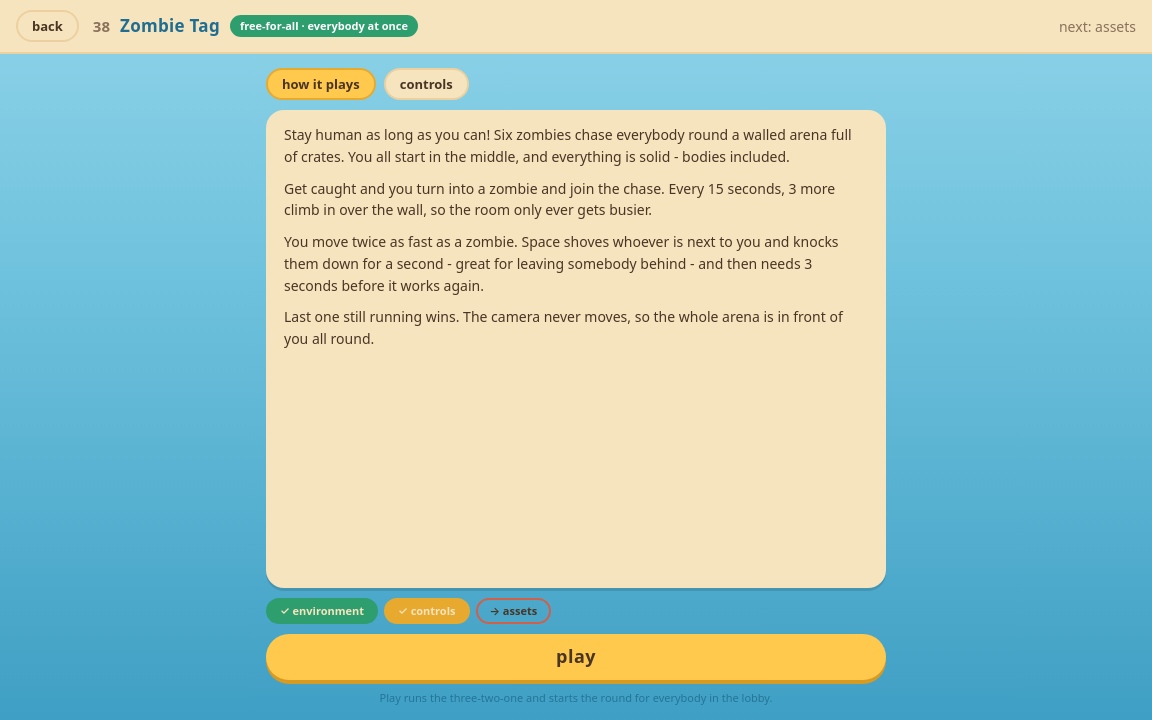
Test: pressing play › cannot be pressed twice to restart the count
Click the button "play" at (576,657), box top-left (266, 634), bottom-right (886, 680)
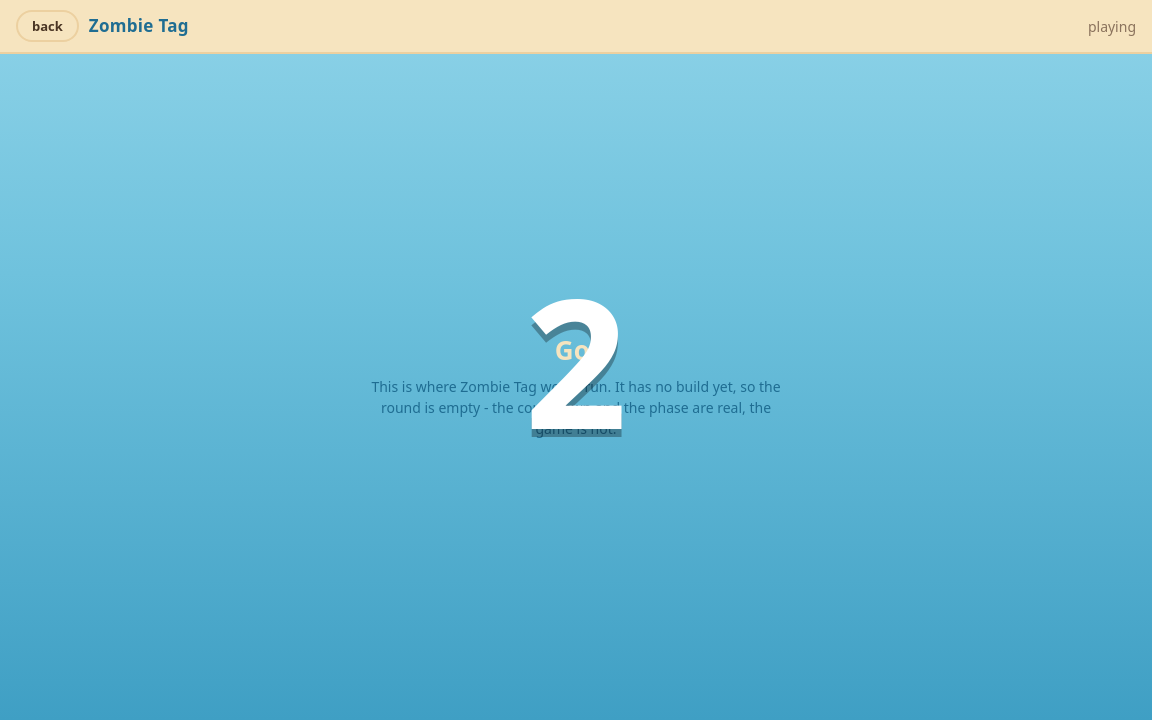
Now the text "2" is shown, box top-left (524, 270), bottom-right (628, 450)
